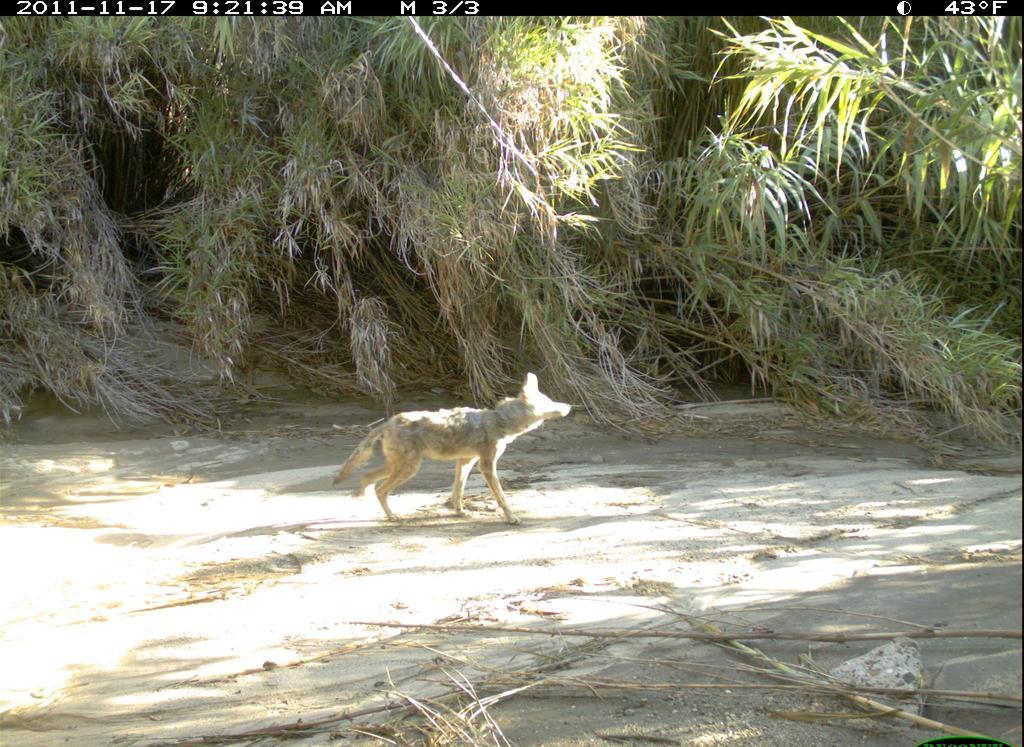coyote: (337, 367, 585, 546)
